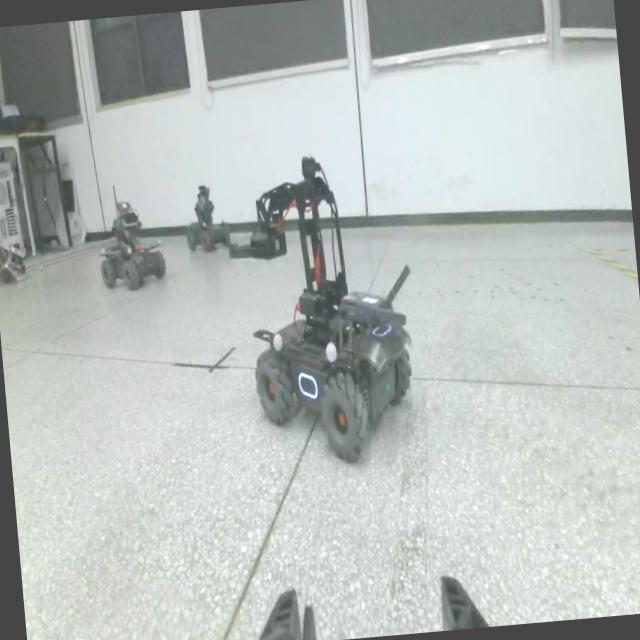ep: (220, 135, 438, 486)
s1: (92, 190, 168, 294), (180, 170, 233, 257)
